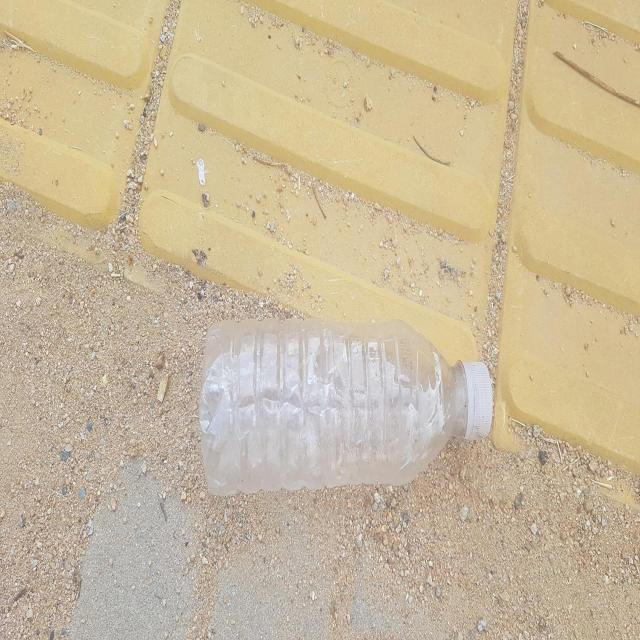plastic: (199, 319, 493, 495)
